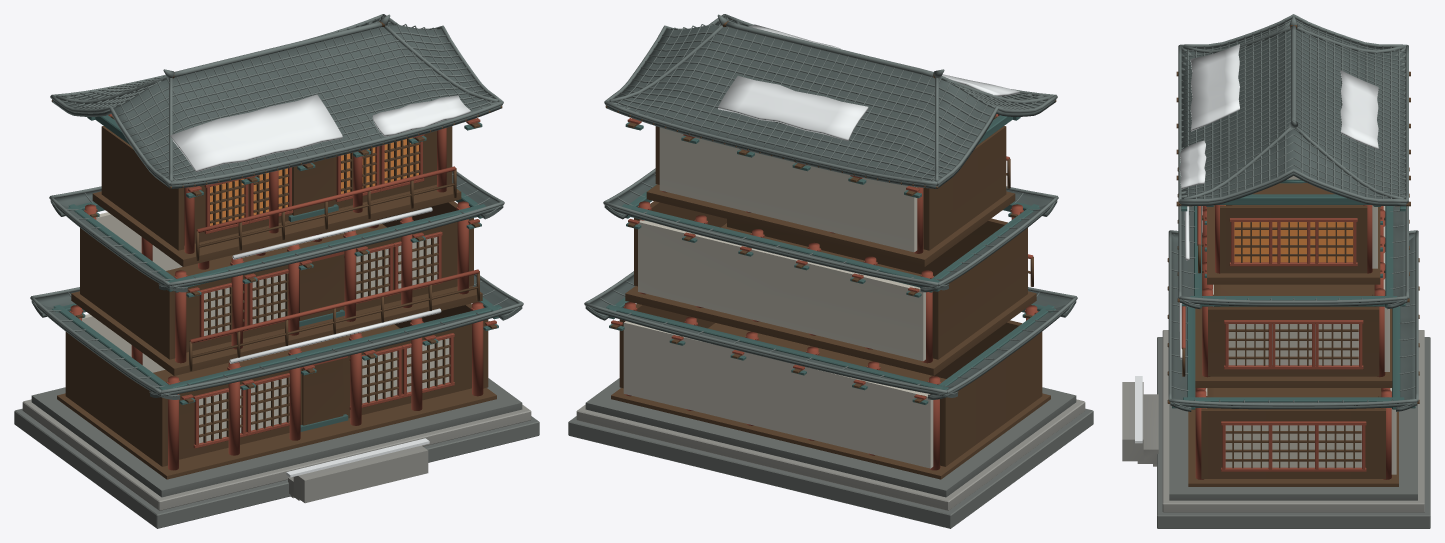
The model's file is research.glb.
3 renders of one model, left to right at view 1: azimuth 30°, elevation 25°; view 2: azimuth 150°, elevation 25°; view 3: azimuth 270°, elevation 25°, orthographic. The views are drawn at different scales.
Parts seen in each view (by area): view 1: research_building, snow_research_winter; view 2: research_building, snow_research_winter; view 3: research_building, snow_research_winter.
Part boxes in pixels (<box>): research_building: <box>14,14,539,528</box>; snow_research_winter: <box>170,94,470,477</box>; research_building: <box>568,14,1093,528</box>; snow_research_winter: <box>718,24,1019,141</box>; research_building: <box>1122,14,1430,528</box>; snow_research_winter: <box>1135,44,1378,443</box>.
Size of the model in its own units: 8.84 by 8.57 by 6.44.
